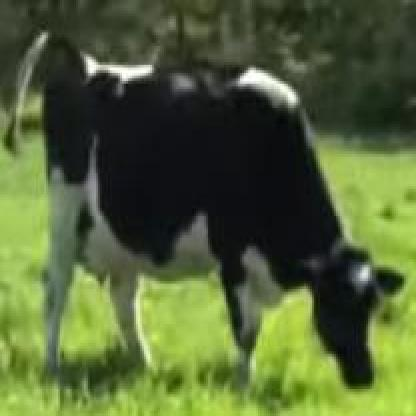cow: (43, 53, 405, 390)
